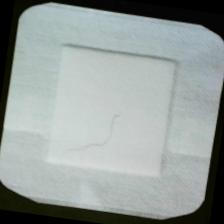Dressing: (1, 1, 224, 224)
F_Body: (60, 101, 129, 162)
